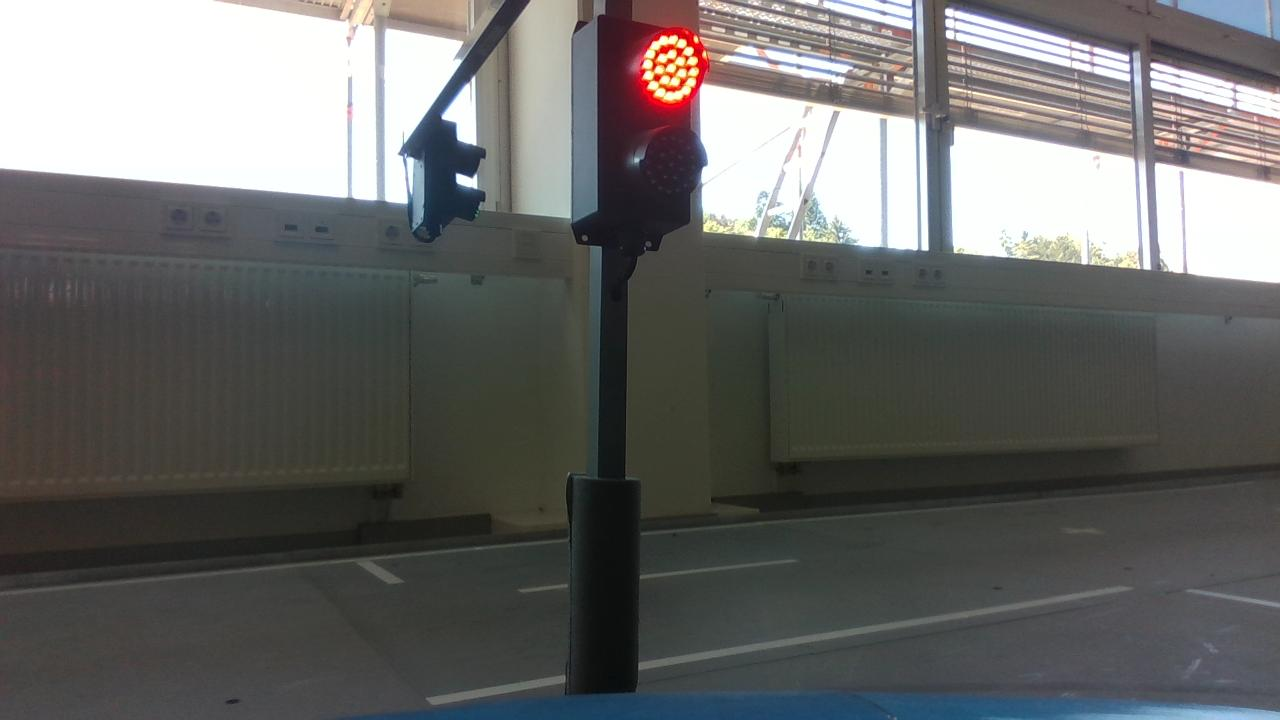traffic_light_red: (554, 10, 719, 265)
